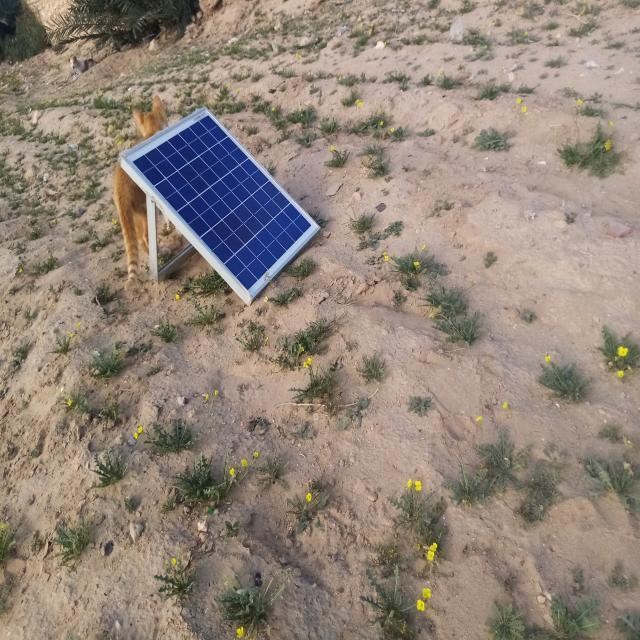no faulty: (125, 109, 318, 306)
